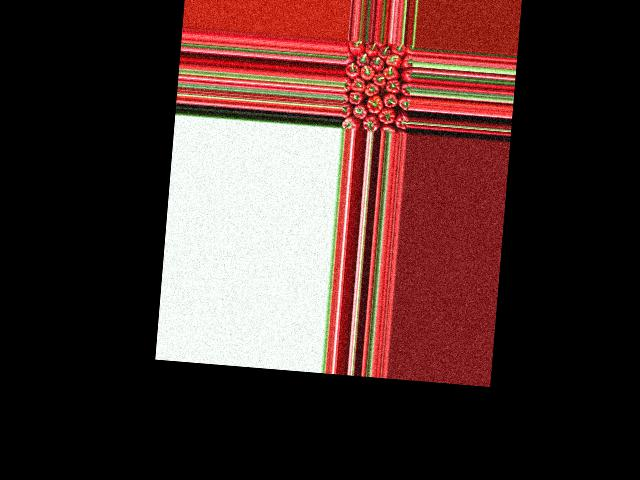bell_pepper: (347, 40, 363, 55)
